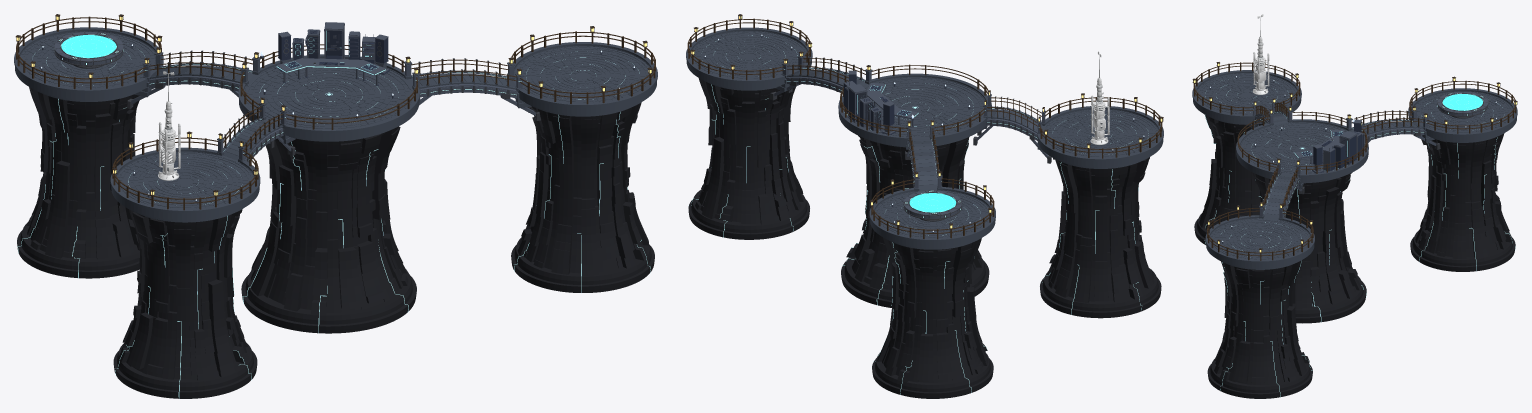
File: pillar.glb
The picture shows the model from 3 angles, left to right: view 1: azimuth 30°, elevation 25°; view 2: azimuth 150°, elevation 25°; view 3: azimuth 270°, elevation 25°; orthographic projection. The views are drawn at different scales.
Parts seen in each view (by area): view 1: island_pillar_project, island_pillar_contact, island_pillar_experience, island_pillar_about, deck_floor_b, deck_floor_experience, deck_floor_contact, deck_floor_about, deck_desk_b, deck_desk_dark_b, deck_railing_about, deck_railing_experience (+8 smaller); view 2: island_pillar_about, island_pillar_contact, island_pillar_experience, island_pillar_project, deck_floor_b, deck_floor_experience, deck_floor_contact, deck_floor_about, deck_desk_b, deck_railing_contact, deck_railing_experience, deck_railing_about (+7 smaller); view 3: island_pillar_experience, island_pillar_about, island_pillar_project, island_pillar_contact, deck_floor_b, deck_floor_experience, deck_floor_contact, deck_floor_about, deck_desk_b, deck_desk_dark_b, deck_railing_b, deck_railing_experience (+7 smaller).
Part boxes in pixels (bbox=[...]): island_pillar_project: bbox=[241, 126, 416, 333]; island_pillar_contact: bbox=[113, 209, 257, 398]; island_pillar_experience: bbox=[511, 102, 654, 292]; island_pillar_about: bbox=[17, 87, 139, 278]; deck_floor_b: bbox=[239, 58, 419, 141]; deck_floor_experience: bbox=[513, 46, 656, 116]; deck_floor_contact: bbox=[111, 151, 259, 222]; deck_floor_about: bbox=[15, 31, 156, 101]; deck_desk_b: bbox=[276, 22, 388, 85]; deck_desk_dark_b: bbox=[277, 29, 389, 85]; deck_railing_about: bbox=[16, 16, 161, 89]; deck_railing_experience: bbox=[511, 31, 655, 104]; island_pillar_about: bbox=[872, 237, 993, 398]; island_pillar_contact: bbox=[1040, 157, 1161, 318]; island_pillar_experience: bbox=[688, 78, 809, 239]; island_pillar_project: bbox=[841, 135, 989, 307]; deck_floor_b: bbox=[838, 77, 988, 147]; deck_floor_experience: bbox=[686, 31, 811, 90]; deck_floor_contact: bbox=[1038, 109, 1163, 168]; deck_floor_about: bbox=[870, 189, 995, 249]; deck_desk_b: bbox=[843, 70, 918, 134]; deck_railing_contact: bbox=[1039, 97, 1162, 158]; deck_railing_experience: bbox=[687, 18, 810, 80]; deck_railing_about: bbox=[871, 178, 994, 239]; island_pillar_experience: bbox=[1207, 260, 1312, 398]; island_pillar_about: bbox=[1410, 133, 1515, 271]; island_pillar_project: bbox=[1252, 172, 1366, 323]; island_pillar_contact: bbox=[1194, 115, 1287, 244]; deck_floor_b: bbox=[1236, 122, 1368, 183]; deck_floor_experience: bbox=[1206, 217, 1314, 269]; deck_floor_contact: bbox=[1193, 73, 1301, 124]; deck_floor_about: bbox=[1408, 91, 1516, 142]; deck_desk_b: bbox=[1295, 119, 1364, 172]; deck_desk_dark_b: bbox=[1301, 122, 1363, 173]; deck_railing_b: bbox=[1237, 111, 1367, 174]; deck_railing_experience: bbox=[1207, 208, 1313, 260].
Bounding box in the file's own units: 19.05 × 9.93 × 13.69.
